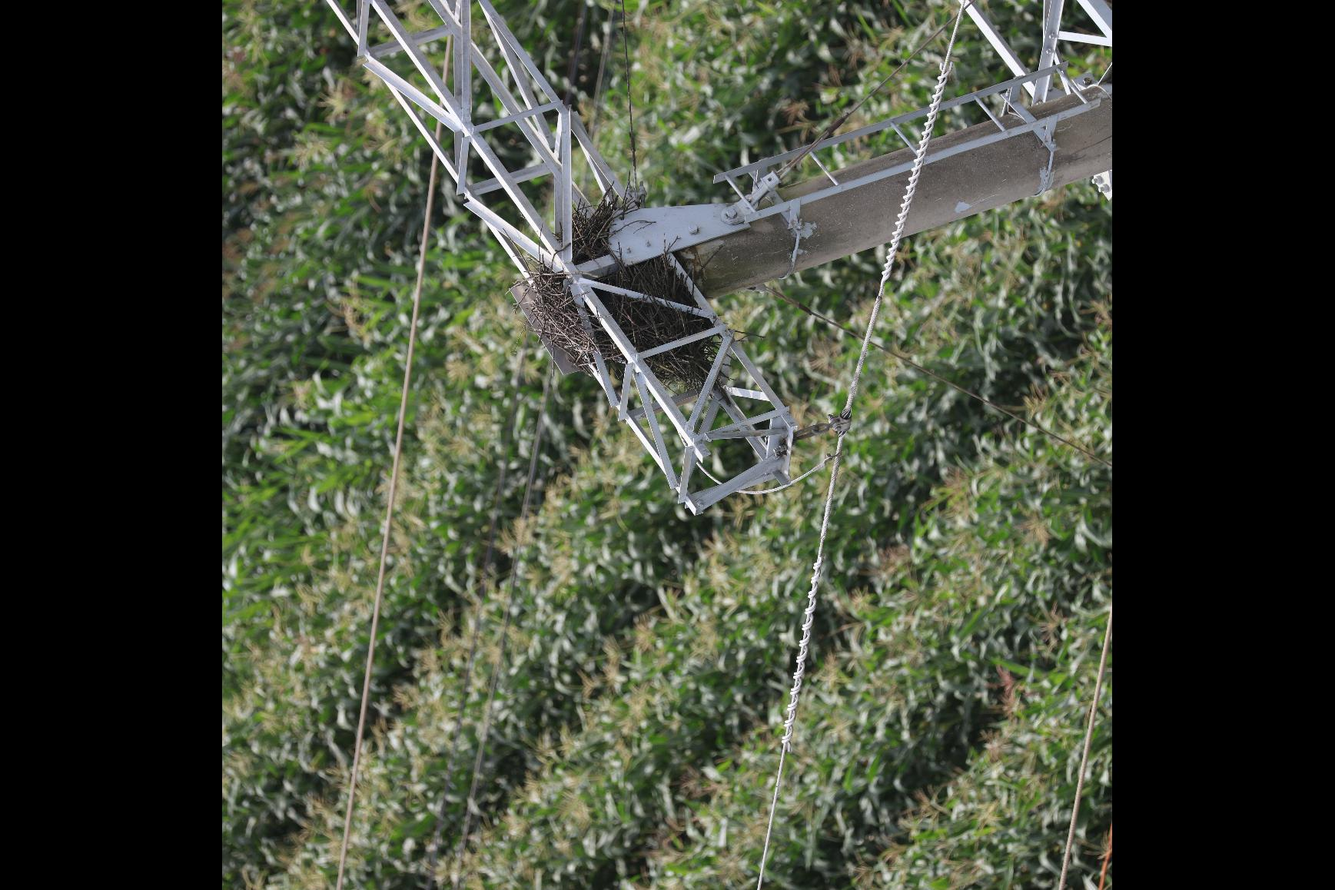nest: (518, 189, 716, 395)
